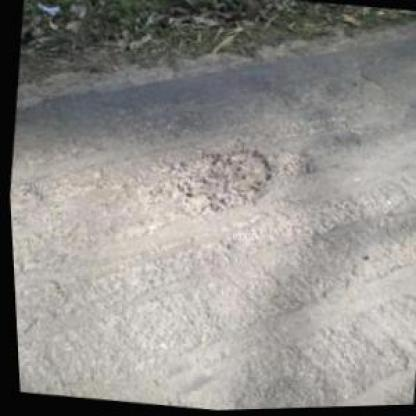pothole: (148, 134, 278, 228)
